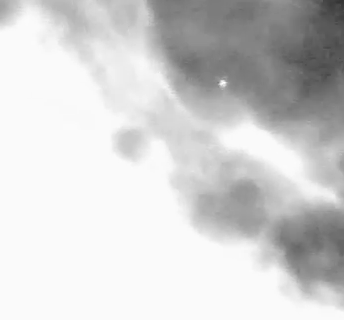Target: (218, 81, 226, 88)
